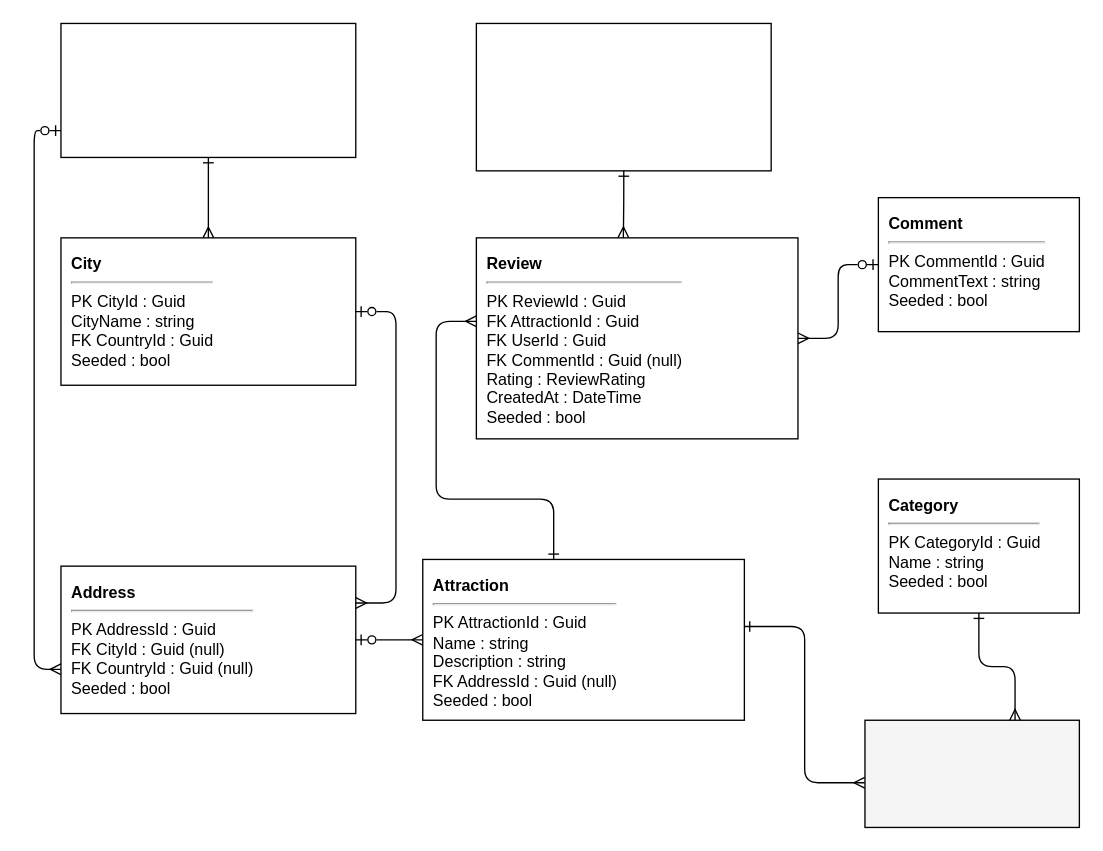
This 1103x851 diagram has some shape labels left out. Here are the shapes that lost their labels. From the top down, the box of each, then its label:
(60, 22, 356, 157): Country PK CountryId : Guid CountryName : string Seeded : bool
(475, 22, 771, 171): User PK UserId : Guid UserName : string Email : string Seeded : bool
(864, 719, 1079, 827): DbAttractionDbCategory FK AttractionId : Guid FK CategoryId : Guid
